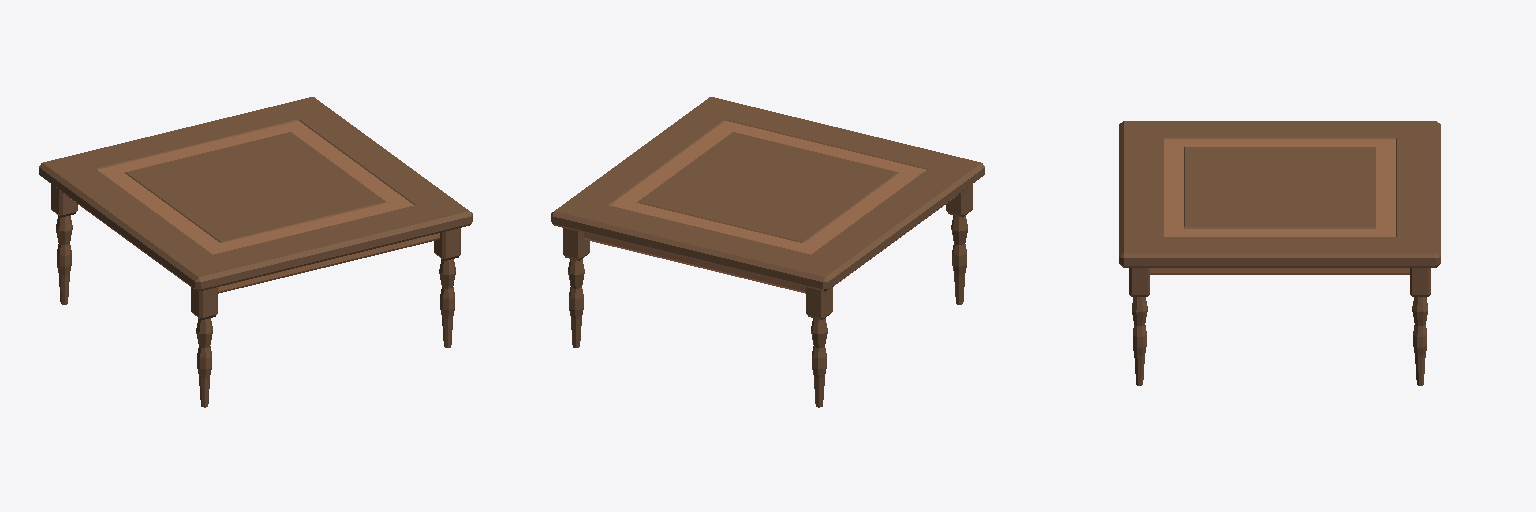
File: Prop_Dining_Room_Table_Square.obj
3 views of the same model, side by side, from view 1: azimuth 30°, elevation 25°; view 2: azimuth 150°, elevation 25°; view 3: azimuth 270°, elevation 25° (orthographic).
Parts seen in each view (by area): view 1: object1; view 2: object1; view 3: object1.
Boxes of the visible parts, <box> form: object1: <box>39,97,472,407</box>; object1: <box>551,97,984,407</box>; object1: <box>1119,121,1440,385</box>.
Size of the model in its own units: 2 by 0.95 by 2.